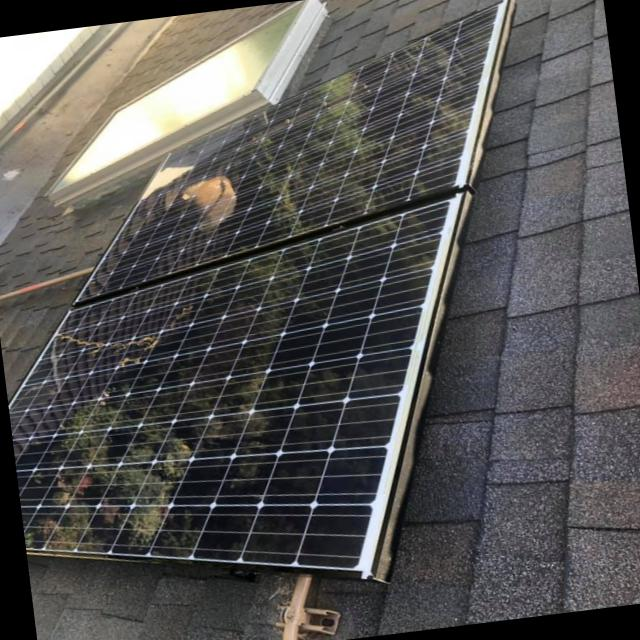no faulty: (7, 209, 445, 557), (81, 10, 497, 295)
